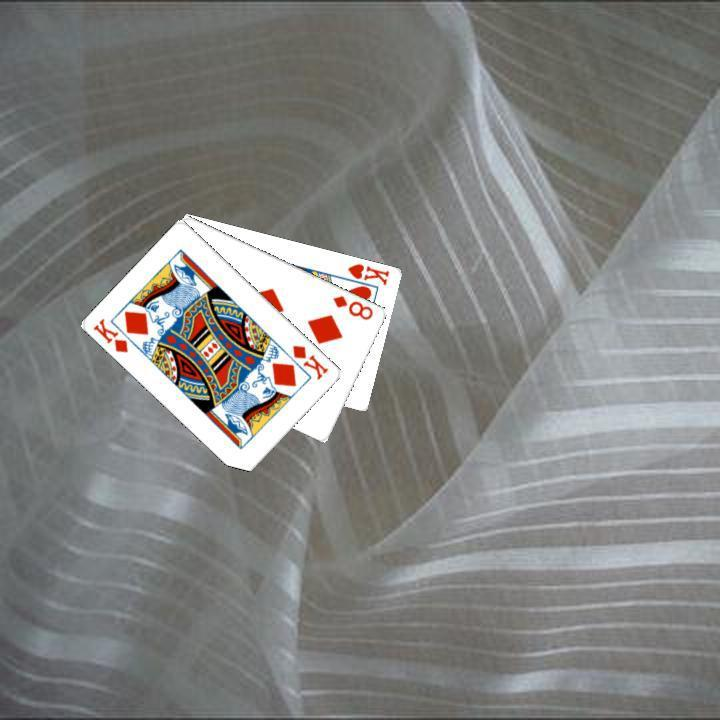8: (328, 291, 375, 322)
K: (288, 340, 331, 382), (89, 314, 131, 355), (343, 259, 392, 287)
